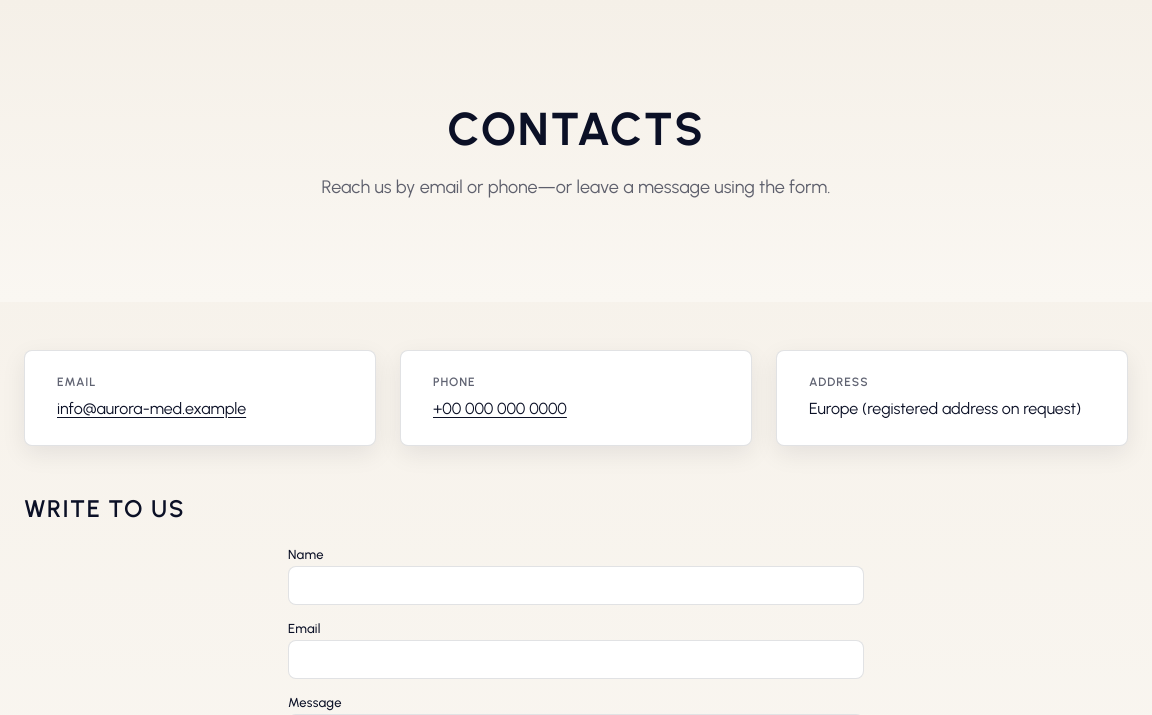
Test: Contacts page › shows email validation error for invalid email
The width and height of the screenshot is (1152, 715).
In the field labelled "Name": (576, 586) left=288, top=566, right=864, bottom=605, type "Jane"
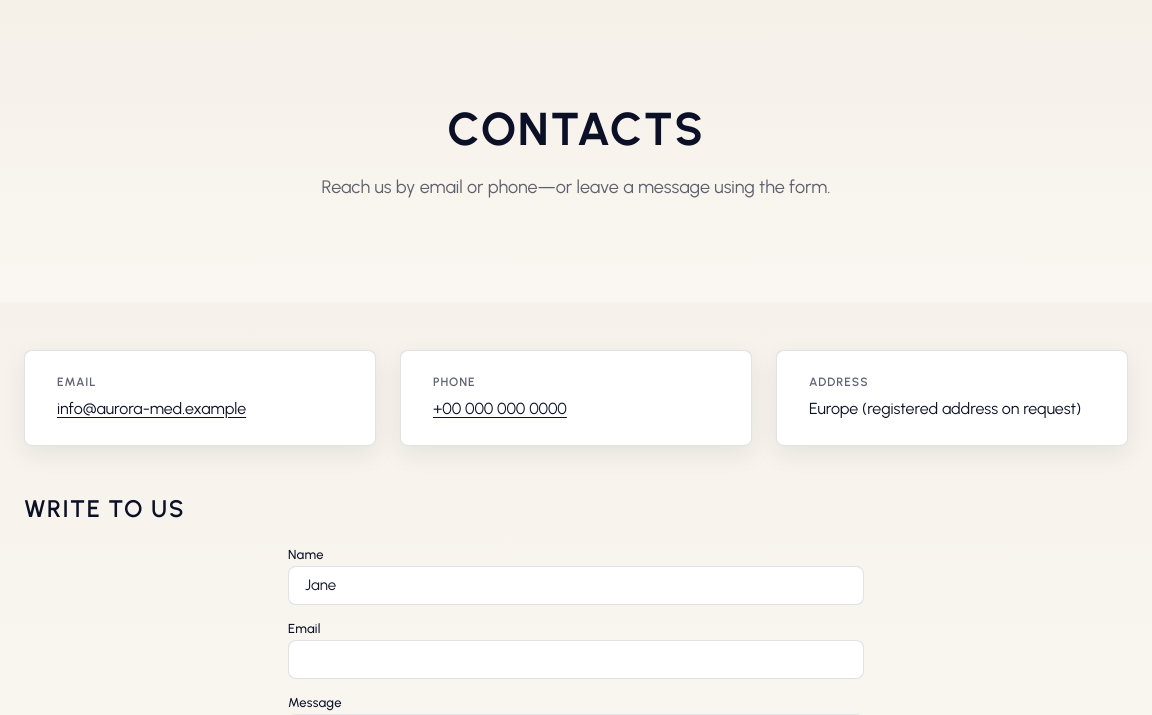
In the field labelled "Email": (576, 660) left=288, top=640, right=864, bottom=679, type "bad"
(page scrolled)
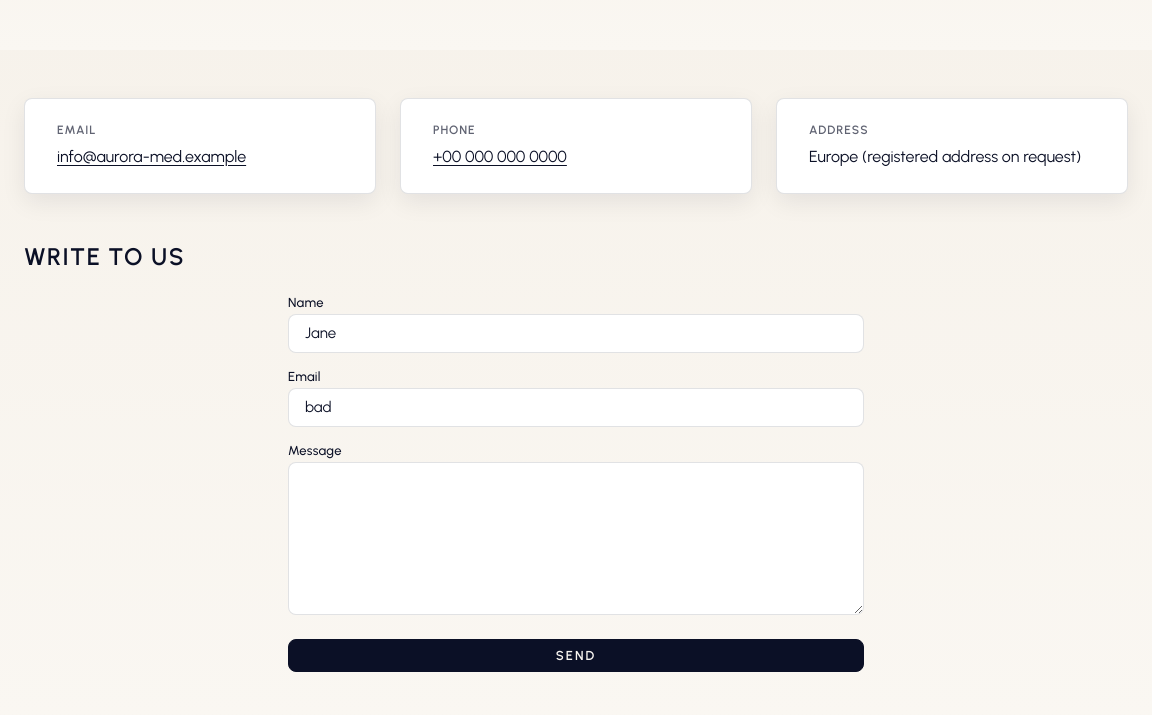
In the text box labelled "Message": (576, 539) left=288, top=462, right=864, bottom=615, type "Hello"
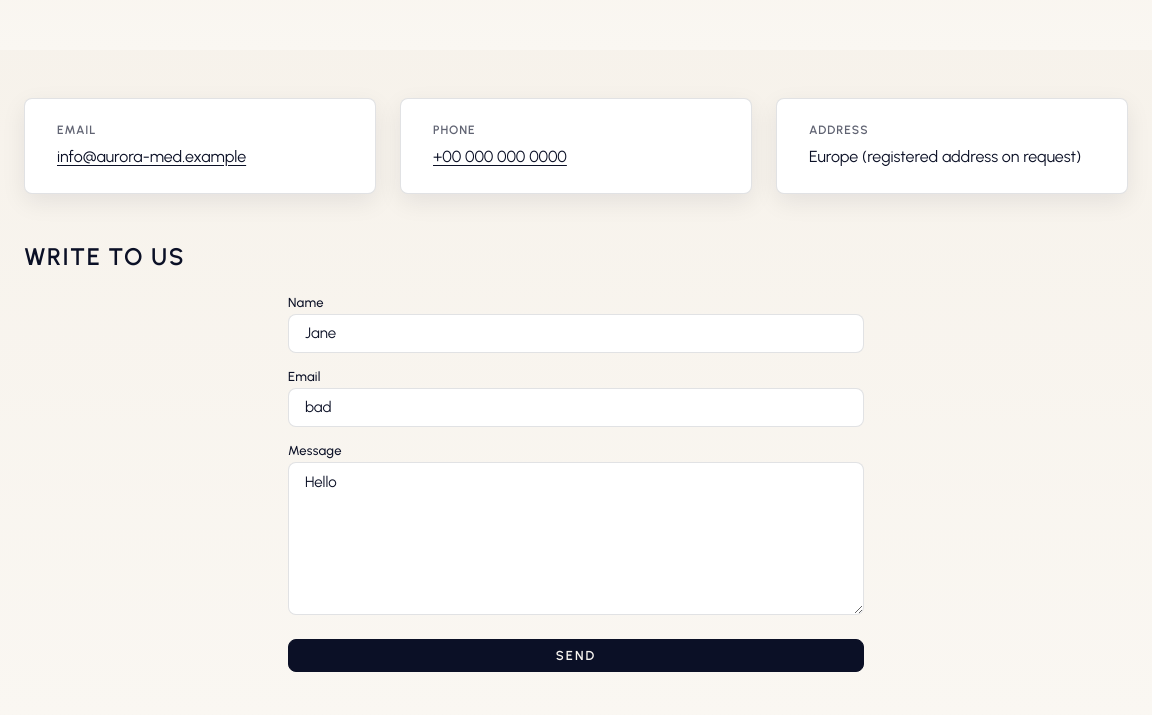
Submit the form with test id "contacts-form", box left=288, top=295, right=864, bottom=672
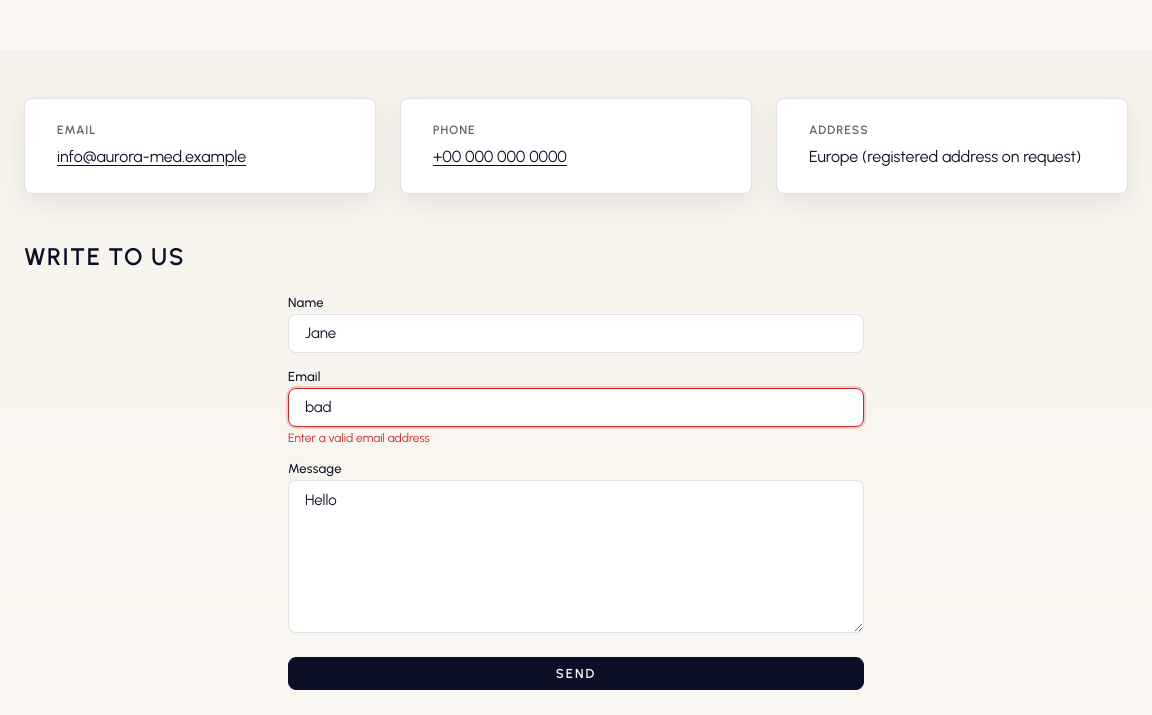
Now the text "Enter a valid email address" is shown, box left=288, top=431, right=430, bottom=445
